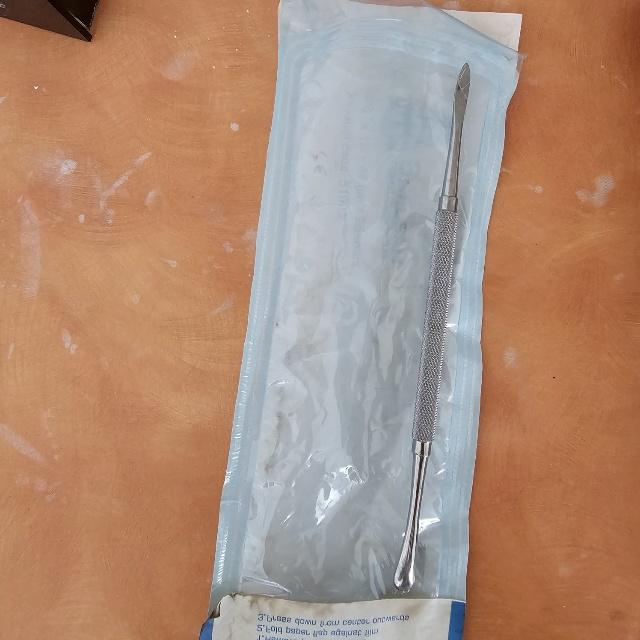elevador: (395, 63, 471, 592)
